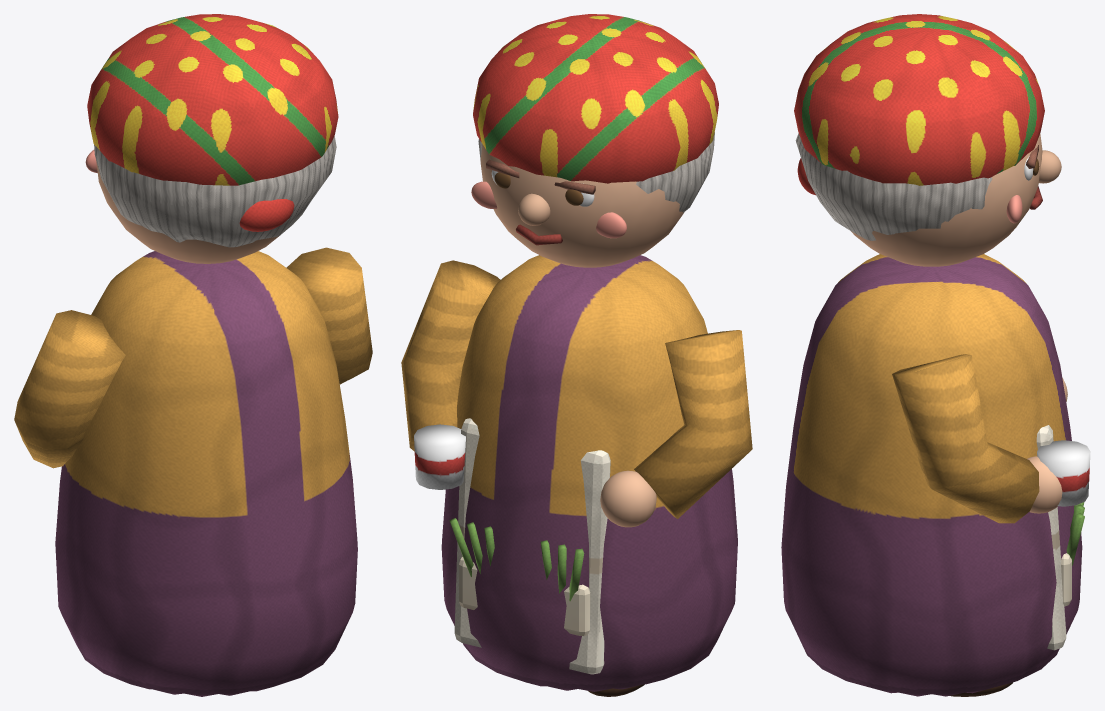
The model's file is vera.glb.
3 views of the same model, side by side, from view 1: azimuth 30°, elevation 25°; view 2: azimuth 150°, elevation 25°; view 3: azimuth 270°, elevation 25° (orthographic). The views are drawn at different scales.
Parts seen in each view (by area): view 1: Body, Head; view 2: Body, Head; view 3: Body, Head.
Part boxes in pixels (x1,y1,x2,y2): Body: (14, 247, 372, 696); Head: (85, 14, 338, 263); Body: (401, 255, 752, 696); Head: (471, 14, 718, 267); Body: (781, 254, 1090, 696); Head: (794, 14, 1061, 266).
Bounding box in the file's own units: 0.9719 × 1.71 × 0.75.
Materials: 1 (1 with a texture image).
